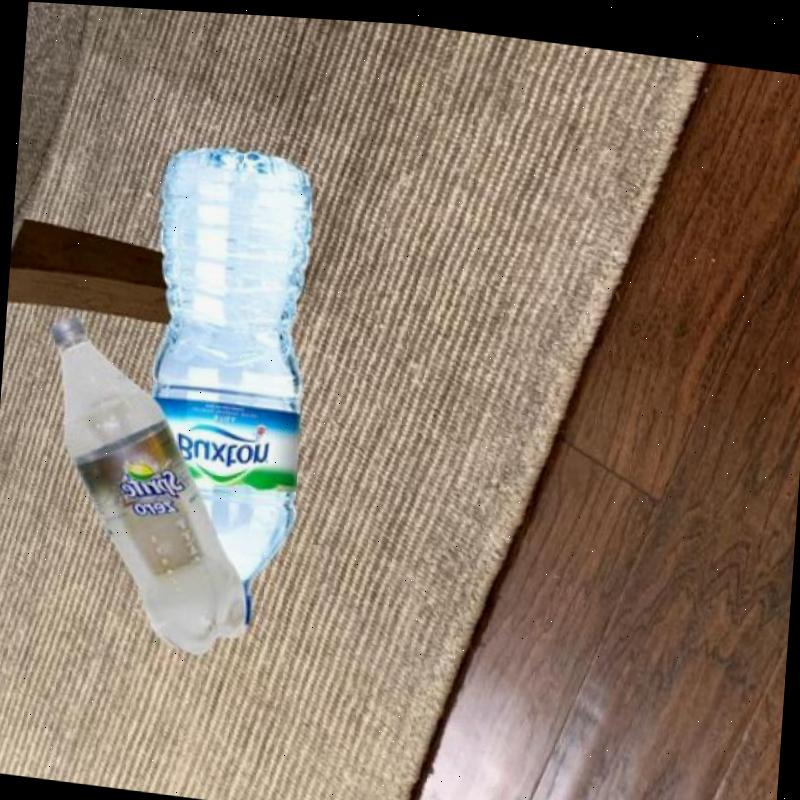botella: (127, 135, 321, 636), (19, 314, 267, 658)
